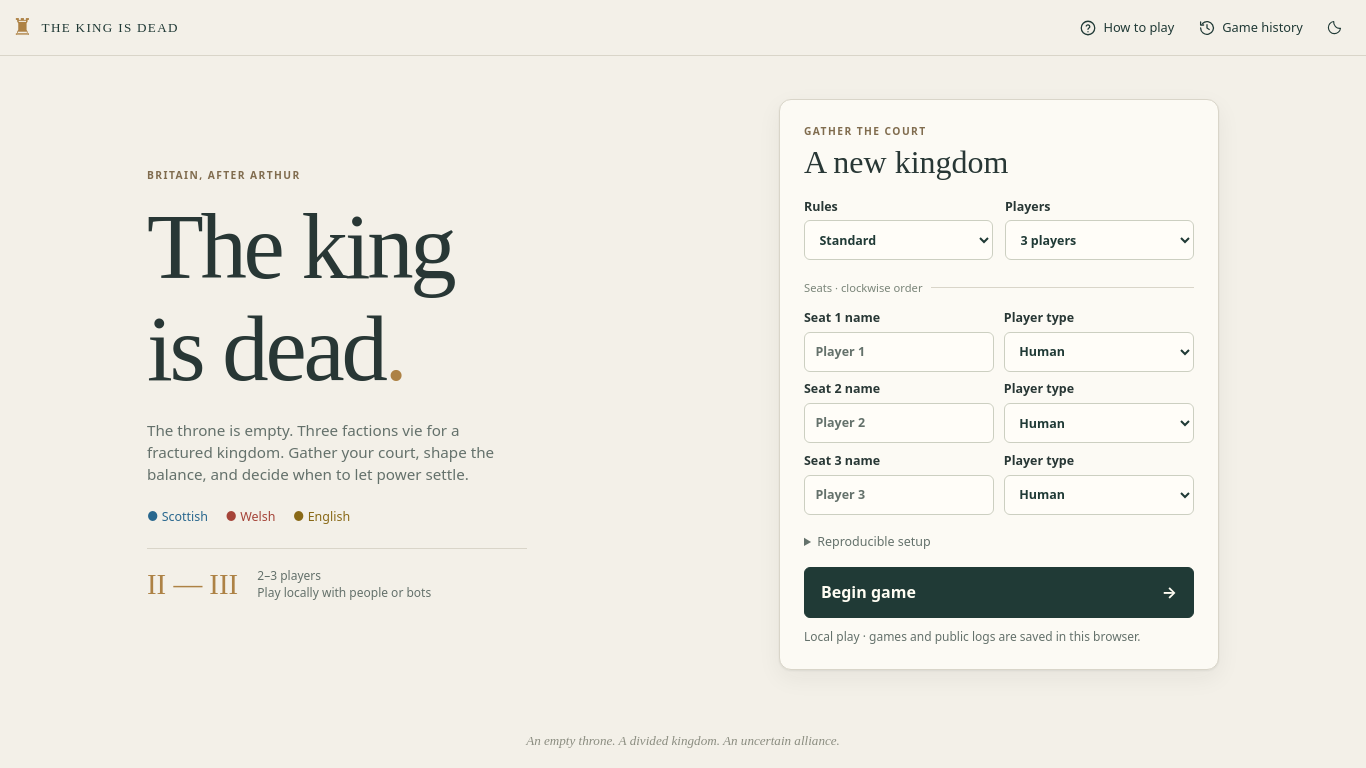
Test: game log archive UI › copies the selected public game log and offers download when clipboard access fails
Click the button "Game history" at (1250, 28), box [1187,10,1313,46]
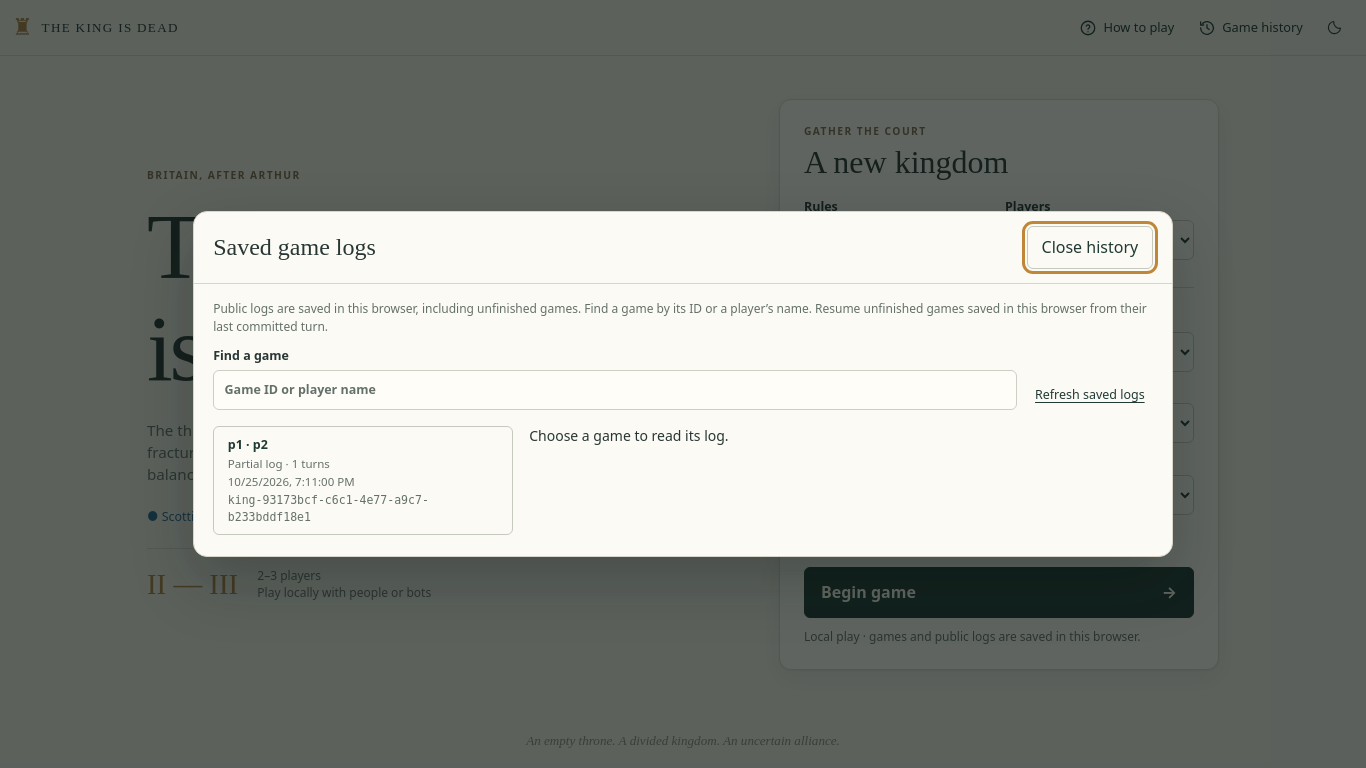
Click the button that starts with "p1 · p2" at (248, 444), box [213,426,513,535]
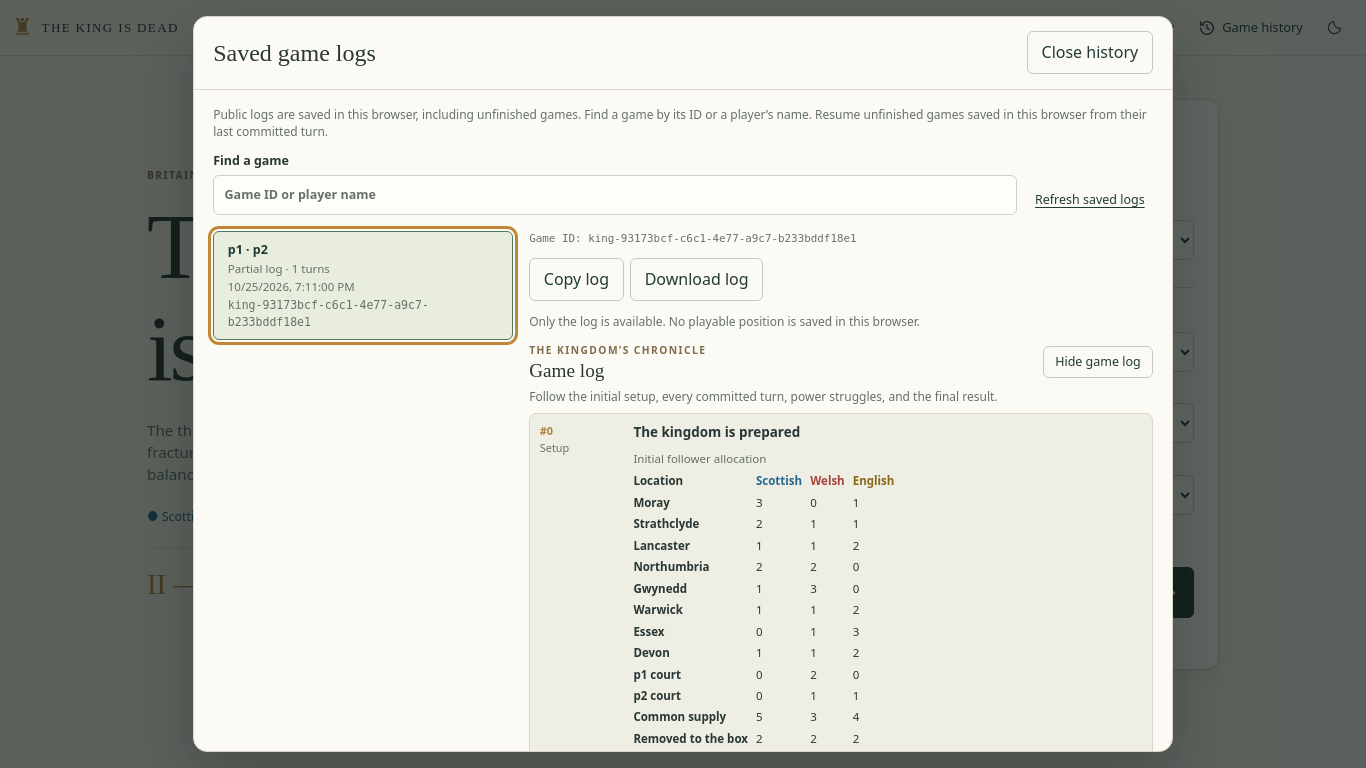
Click the button "Copy log" at (576, 279), box [529,258,624,301]
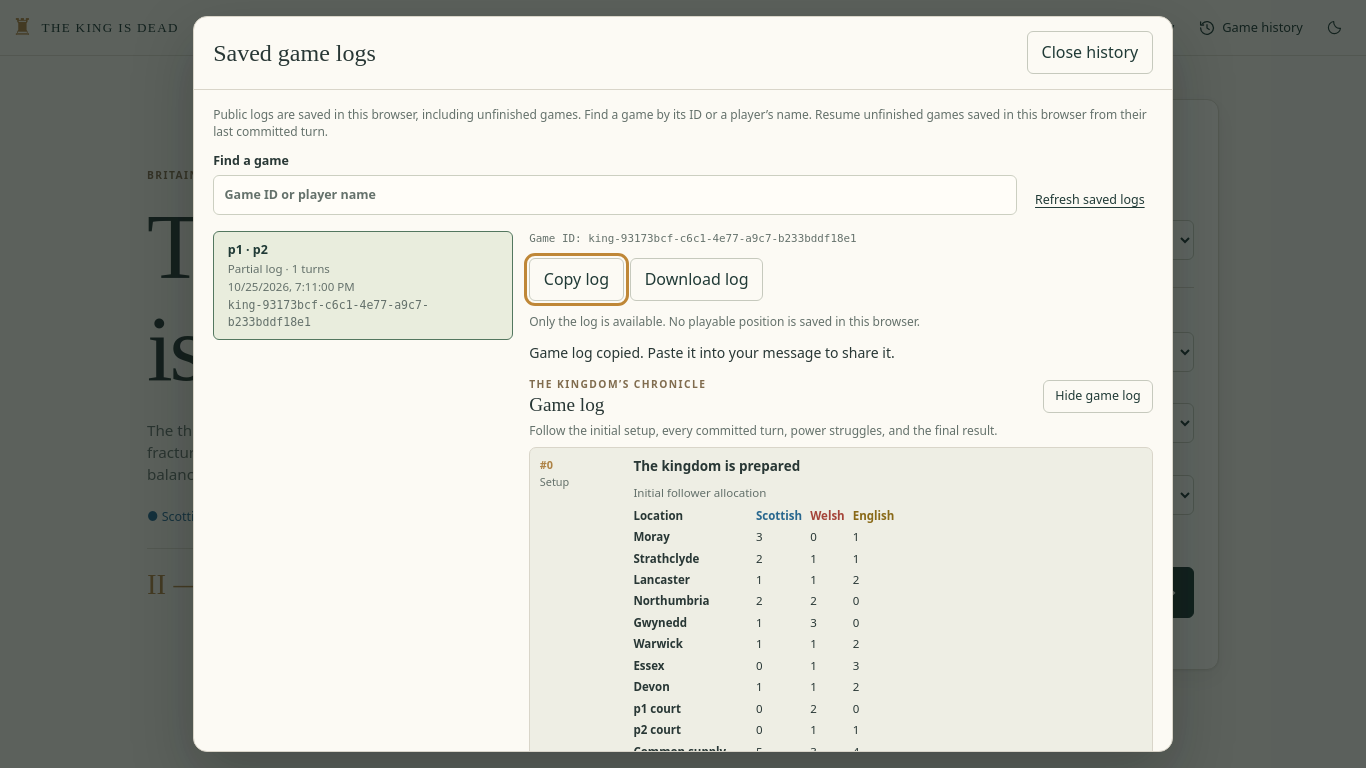
Expected: the message shows "Game log copied", [529,343,895,362]
Click the button "Copy log" at (576, 279), box [529,258,624,301]
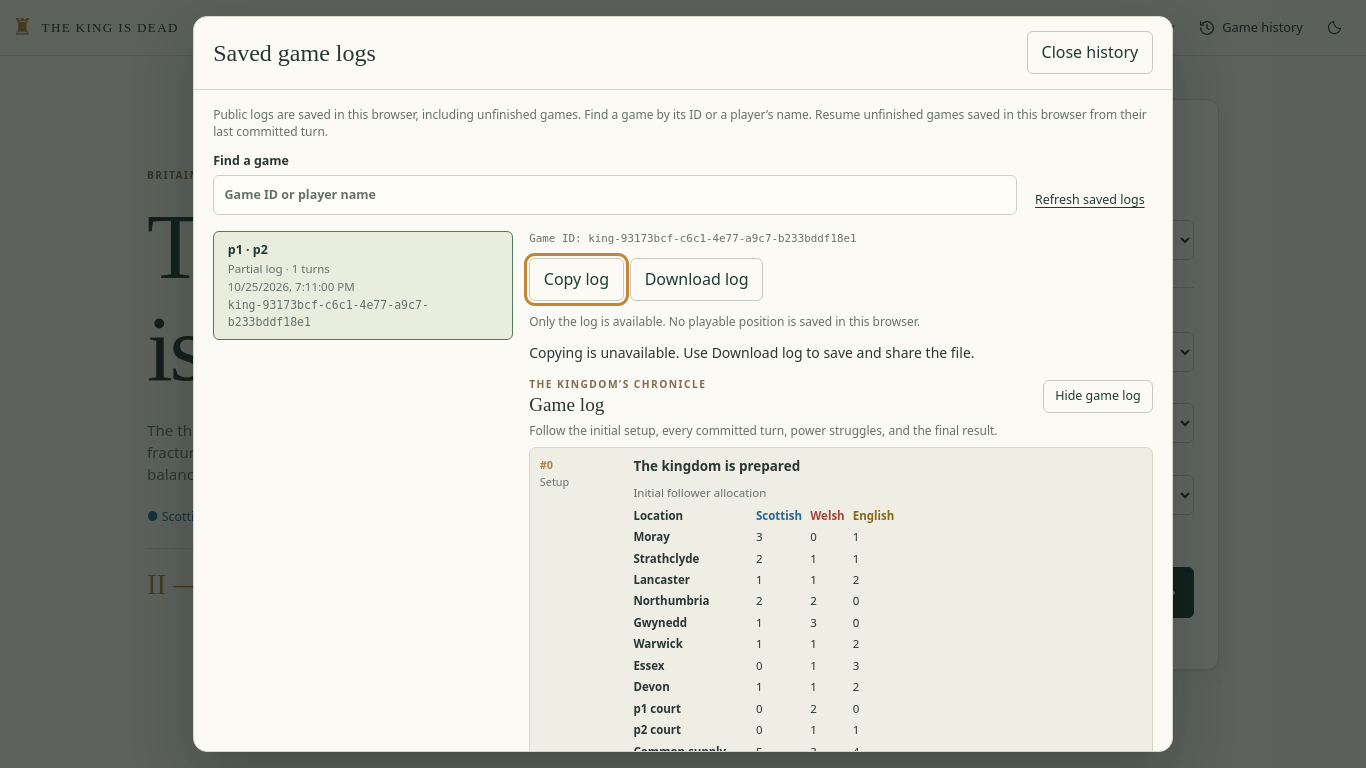
Expected: the button "Download log" is shown, [630,258,763,301]
Expected: the message shows "Use Download log", [529,343,974,362]
